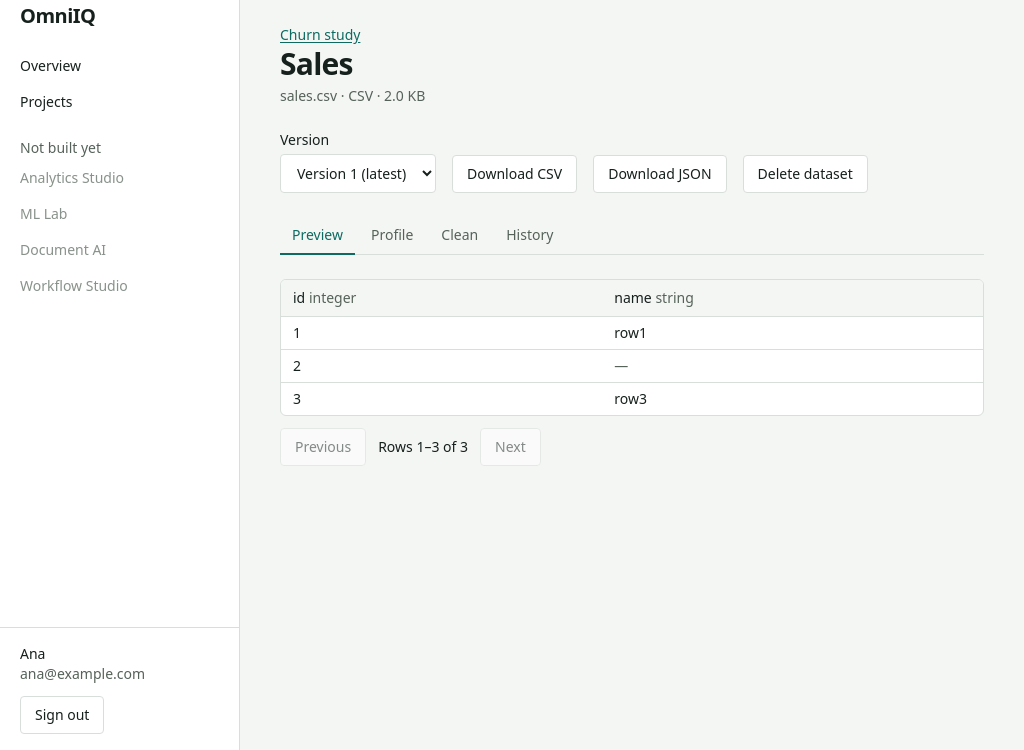
Test: Cleaning › rejects incomplete steps and lets you remove steps
This screenshot has width=1024, height=750.
Click the tab "Clean": (460, 236) [429,217,490,255]
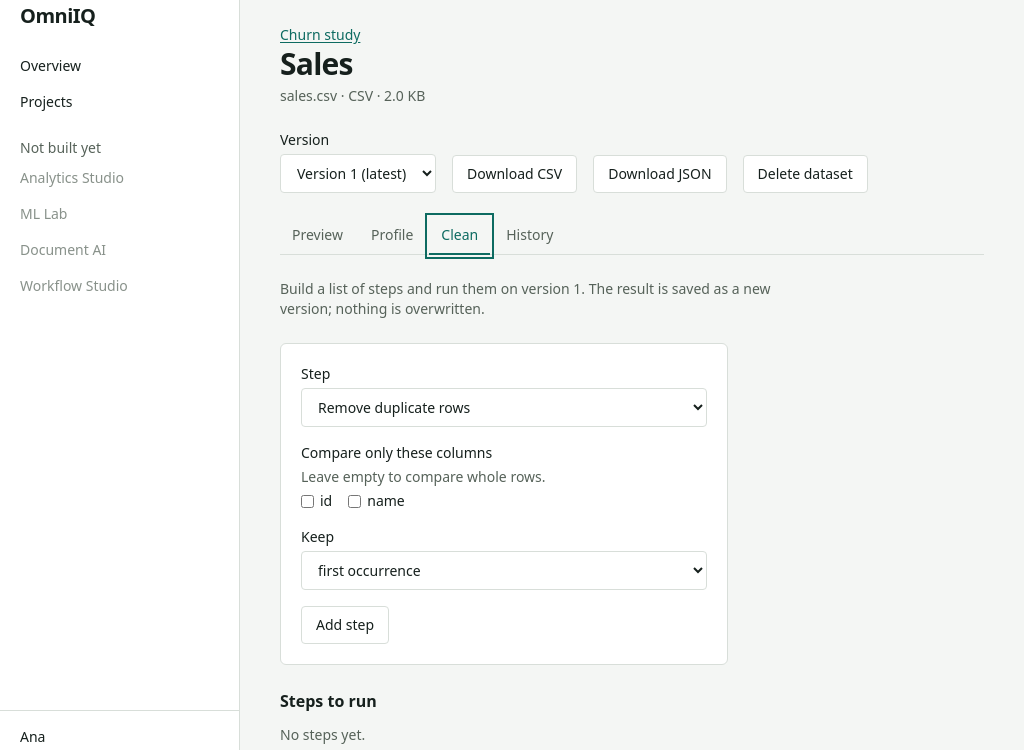
Select "Rename a column" in the dropdown labelled "Step": (504, 408) [301,388,707,427]
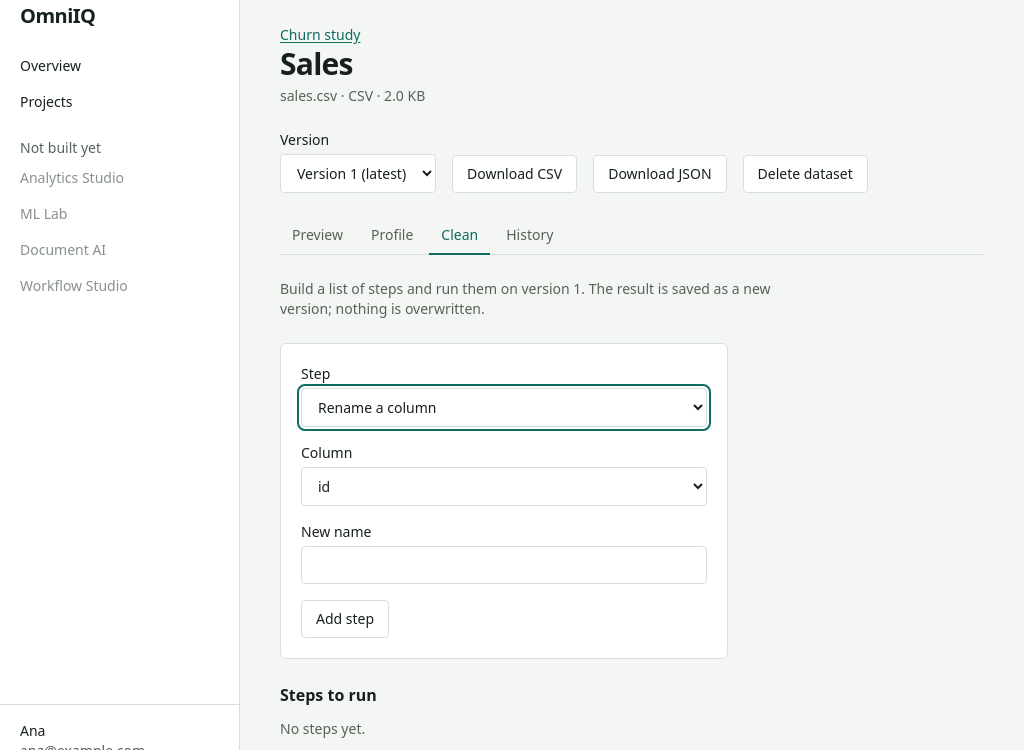
Click the button "Add step": (345, 619) [301,600,389,638]
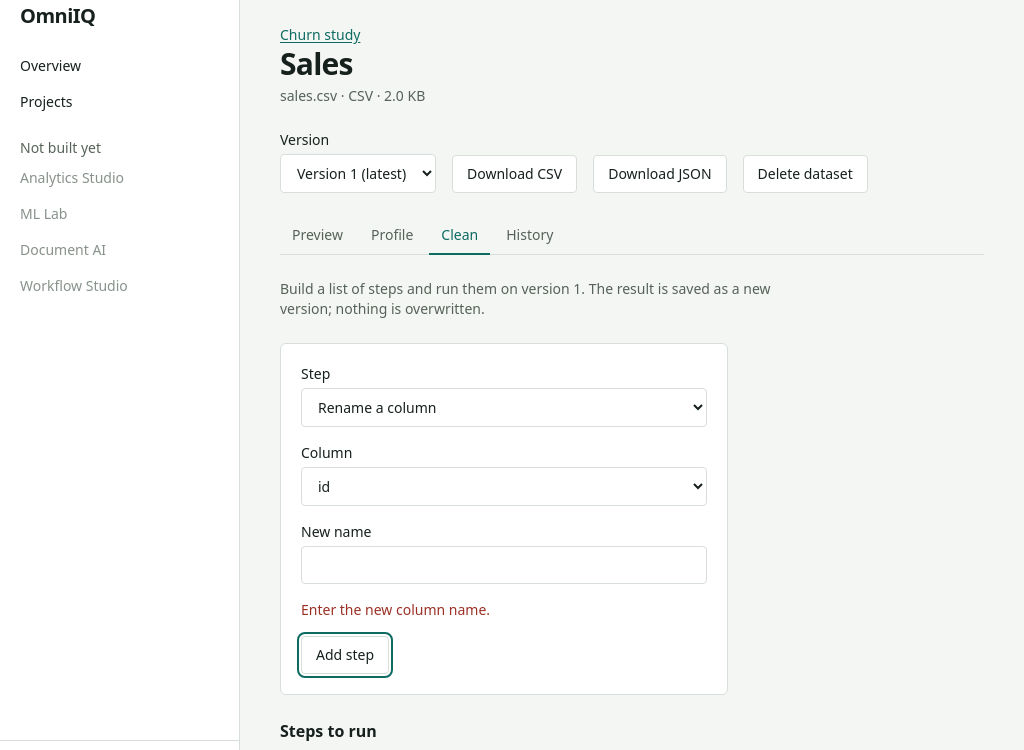
Expected: the text "Enter the new column name." is shown, [301,600,490,619]
Select "Remove duplicate rows" in the dropdown labelled "Step": (504, 408) [301,388,707,427]
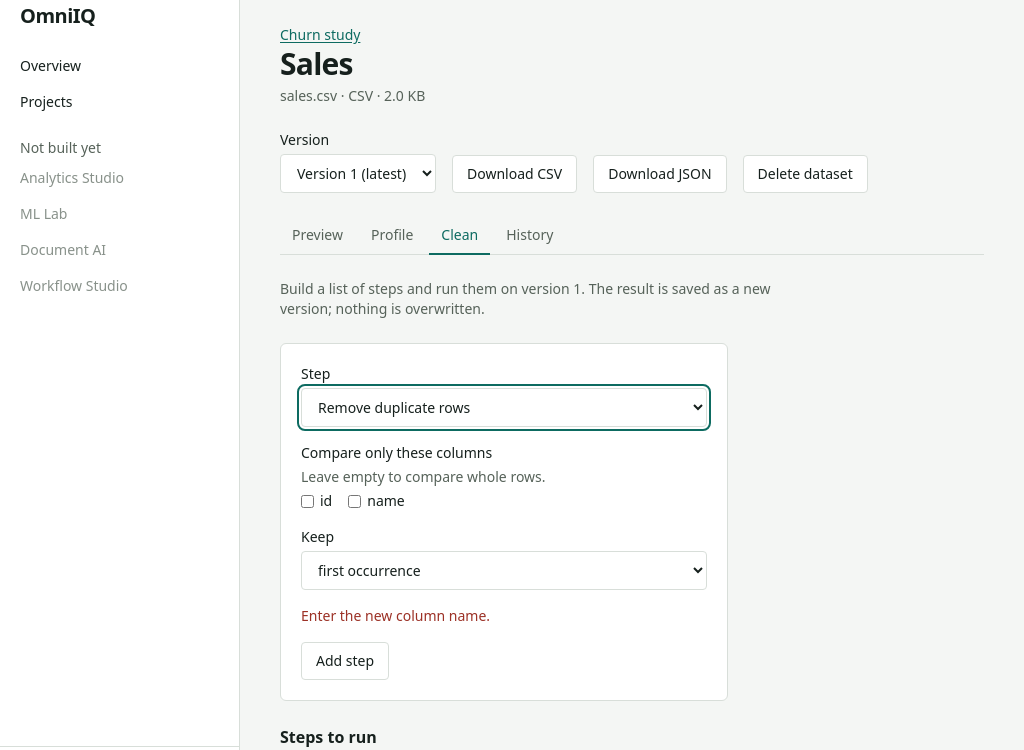
Click the button "Add step": (345, 661) [301,642,389,680]
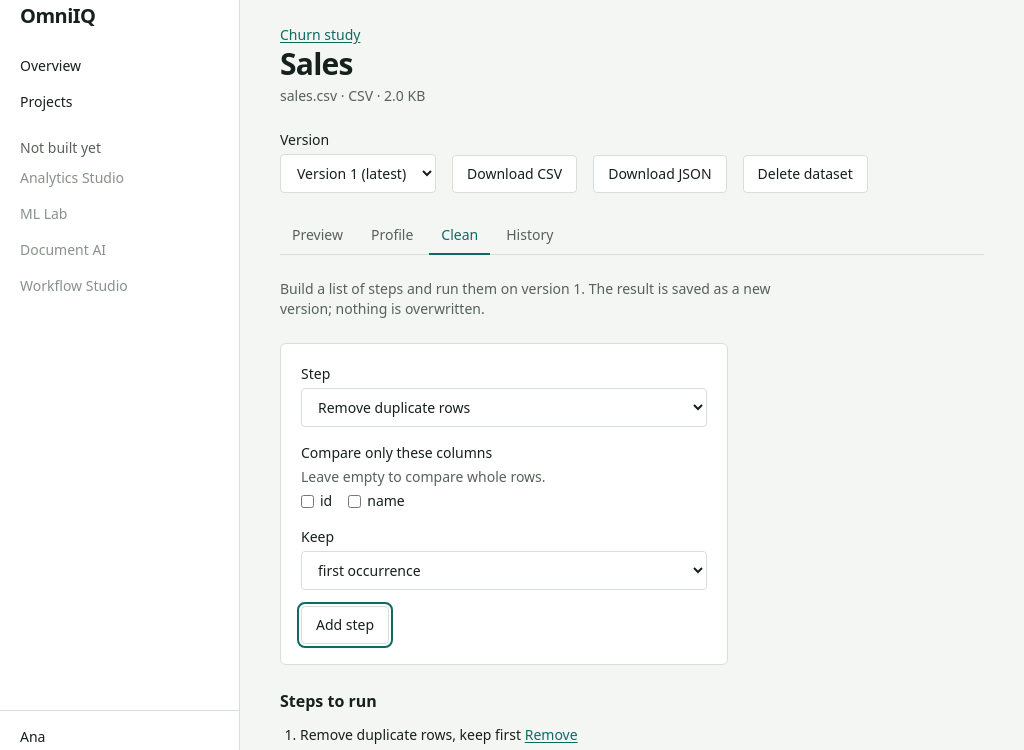
Expected: the text "Remove duplicate rows, keep first" is shown, [300,725,521,744]
Click the button with aria-label "Remove step 1": (551, 735) [525,725,578,745]
(page scrolled)
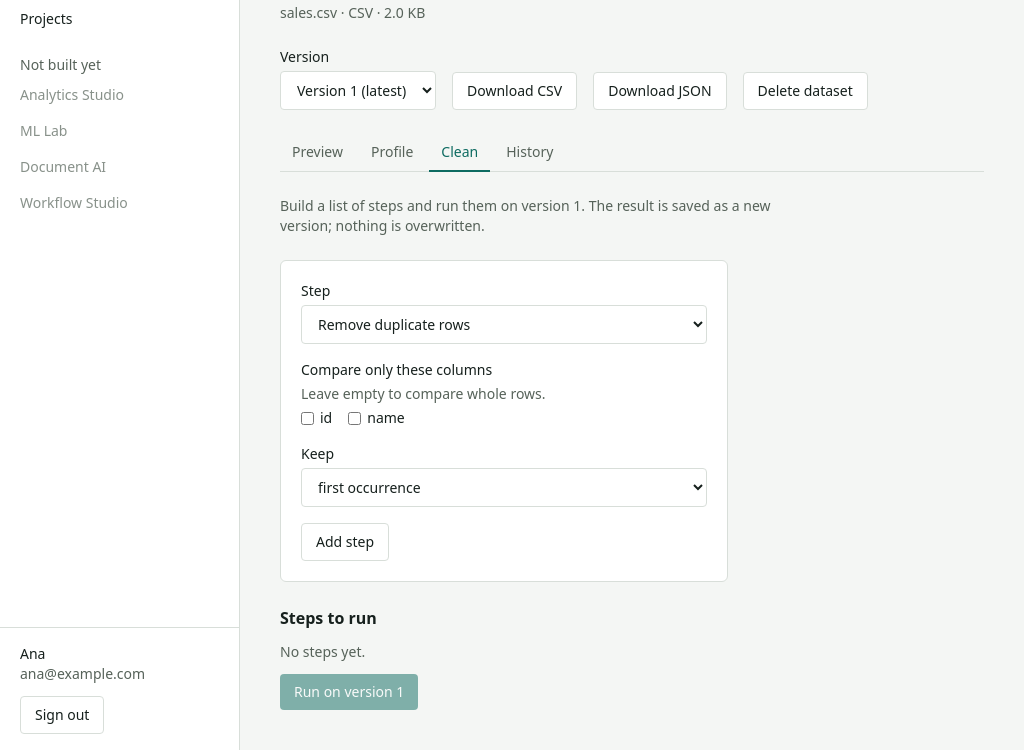
Expected: the text "No steps yet." is shown, [280,642,365,661]
Expected: the button "Run on version 1" is disabled, [280,674,418,710]
